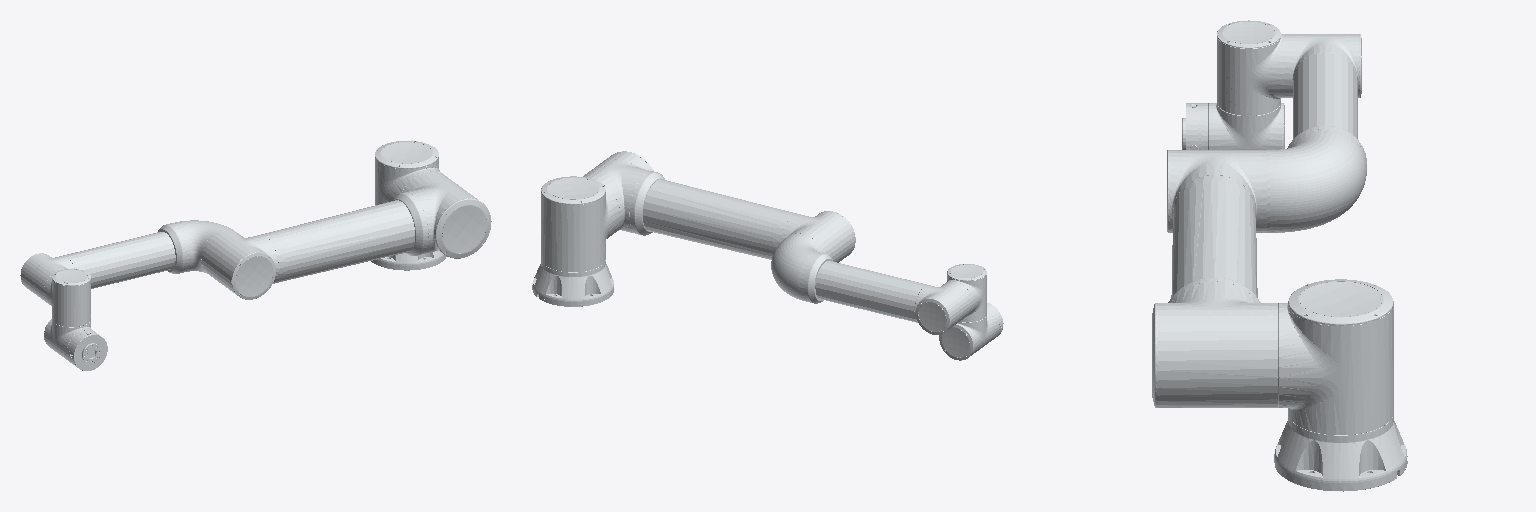
robot.urdf — fairino30_v6_robot:
<?xml version="1.0" encoding="utf-8"?>
<!-- This URDF was automatically created by SolidWorks to URDF Exporter! Originally created by [author] ([email redacted]) 
     Commit Version: 1.5.1-0-g916b5db  Build Version: 1.5.7152.31018
     For more information, please see http://wiki.ros.org/sw_urdf_exporter -->
<robot
  name="fairino30_v6_robot">
  <link
    name="base_link">
    <inertial>
      <origin
        xyz="-2.164E-05 -6.0529E-05 0.043457"
        rpy="0 0 0" />
      <mass
        value="9.2502" />
      <inertia
        ixx="0.034499"
        ixy="1.668E-05"
        ixz="-7.4694E-06"
        iyy="0.034518"
        iyz="-2.0864E-05"
        izz="0.05496" />
    </inertial>
    <visual>
      <origin
        xyz="0 0 0"
        rpy="0 0 0" />
      <geometry>
        <mesh
          filename="package://fairino_description/meshes/fairino30_v6/base_link.STL" />
      </geometry>
      <material
        name="">
        <color
          rgba="0.89804 0.91765 0.92941 1" />
      </material>
    </visual>
    <collision>
      <origin
        xyz="0 0 0"
        rpy="0 0 0" />
      <geometry>
        <mesh
          filename="package://fairino_description/meshes/fairino30_v6/base_link.STL" />
      </geometry>
    </collision>
  </link>
  <link
    name="shoulder_link">
    <inertial>
      <origin
        xyz="-4.518E-06 -0.010267 0.213"
        rpy="0 0 0" />
      <mass
        value="20.64" />
      <inertia
        ixx="0.12521"
        ixy="-1.1623E-05"
        ixz="1.7646E-06"
        iyy="0.11672"
        iyz="0.0010853"
        izz="0.10221" />
    </inertial>
    <visual>
      <origin
        xyz="0 0 0"
        rpy="0 0 0" />
      <geometry>
        <mesh
          filename="package://fairino_description/meshes/fairino30_v6/shoulder_link.STL" />
      </geometry>
      <material
        name="">
        <color
          rgba="0.89804 0.91765 0.92941 1" />
      </material>
    </visual>
    <collision>
      <origin
        xyz="0 0 0"
        rpy="0 0 0" />
      <geometry>
        <mesh
          filename="package://fairino_description/meshes/fairino30_v6/shoulder_link.STL" />
      </geometry>
    </collision>
  </link>
  <joint
    name="j1"
    type="revolute">
    <origin
      xyz="0 0 0"
      rpy="0 0 0" />
    <parent
      link="base_link" />
    <child
      link="shoulder_link" />
    <axis
      xyz="0 0 1" />
    <limit
      lower="-3.0543"
      upper="3.0543"
      effort="150"
      velocity="3.15" />
    <calibration
      rising="0"
      falling="0" />
    <dynamics
      damping="0"
      friction="0" />
    <safety_controller
      soft_lower_limit="-3.0543"
      soft_upper_limit="3.0543"
      k_position="15"
      k_velocity="10" />
  </joint>
  <link
    name="uppperarm_link">
    <inertial>
      <origin
        xyz="-0.2914 5.4848E-07 0.22621"
        rpy="0 0 0" />
      <mass
        value="36.37" />
      <inertia
        ixx="0.23721"
        ixy="1.6991E-05"
        ixz="0.00045804"
        iyy="0.75577"
        iyz="-1.666E-06"
        izz="0.72292" />
    </inertial>
    <visual>
      <origin
        xyz="0 0 0"
        rpy="0 0 0" />
      <geometry>
        <mesh
          filename="package://fairino_description/meshes/fairino30_v6/uppperarm_link.STL" />
      </geometry>
      <material
        name="">
        <color
          rgba="0.89804 0.91765 0.92941 1" />
      </material>
    </visual>
    <collision>
      <origin
        xyz="0 0 0"
        rpy="0 0 0" />
      <geometry>
        <mesh
          filename="package://fairino_description/meshes/fairino30_v6/uppperarm_link.STL" />
      </geometry>
    </collision>
  </link>
  <joint
    name="j2"
    type="revolute">
    <origin
      xyz="0 0 0.215"
      rpy="1.5708 0 0" />
    <parent
      link="shoulder_link" />
    <child
      link="uppperarm_link" />
    <axis
      xyz="0 0 1" />
    <limit
      lower="-4.6251"
      upper="1.4835"
      effort="150"
      velocity="3.15" />
    <calibration
      rising="0"
      falling="0" />
    <dynamics
      damping="0"
      friction="0" />
    <safety_controller
      soft_lower_limit="-4.6251"
      soft_upper_limit="1.4835"
      k_position="15"
      k_velocity="10" />
  </joint>
  <link
    name="forearm_link">
    <inertial>
      <origin
        xyz="-0.23717 -5.0539E-08 0.037483"
        rpy="0 0 0" />
      <mass
        value="8.41" />
      <inertia
        ixx="0.058746"
        ixy="5.8645E-08"
        ixz="-0.0061647"
        iyy="0.18059"
        iyz="-5.4019E-08"
        izz="0.17417" />
    </inertial>
    <visual>
      <origin
        xyz="0 0 0"
        rpy="0 0 0" />
      <geometry>
        <mesh
          filename="package://fairino_description/meshes/fairino30_v6/forearm_link.STL" />
      </geometry>
      <material
        name="">
        <color
          rgba="0.89804 0.91765 0.92941 1" />
      </material>
    </visual>
    <collision>
      <origin
        xyz="0 0 0"
        rpy="0 0 0" />
      <geometry>
        <mesh
          filename="package://fairino_description/meshes/fairino30_v6/forearm_link.STL" />
      </geometry>
    </collision>
  </link>
  <joint
    name="j3"
    type="revolute">
    <origin
      xyz="-0.7 0 0"
      rpy="0 0 0" />
    <parent
      link="uppperarm_link" />
    <child
      link="forearm_link" />
    <axis
      xyz="0 0 1" />
    <limit
      lower="-2.8274"
      upper="2.8274"
      effort="150"
      velocity="3.15" />
    <calibration
      rising="0"
      falling="0" />
    <dynamics
      damping="0"
      friction="0" />
    <safety_controller
      soft_lower_limit="-2.8274"
      soft_upper_limit="2.8274"
      k_position="15"
      k_velocity="10" />
  </joint>
  <link
    name="wrist1_link">
    <inertial>
      <origin
        xyz="-1.3256E-07 -0.0056179 0.16192"
        rpy="0 0 0" />
      <mass
        value="4.64" />
      <inertia
        ixx="0.010725"
        ixy="7.9712E-08"
        ixz="-9.1987E-08"
        iyy="0.0081744"
        iyz="0.0001288"
        izz="0.010402" />
    </inertial>
    <visual>
      <origin
        xyz="0 0 0"
        rpy="0 0 0" />
      <geometry>
        <mesh
          filename="package://fairino_description/meshes/fairino30_v6/wrist1_link.STL" />
      </geometry>
      <material
        name="">
        <color
          rgba="0.89804 0.91765 0.92941 1" />
      </material>
    </visual>
    <collision>
      <origin
        xyz="0 0 0"
        rpy="0 0 0" />
      <geometry>
        <mesh
          filename="package://fairino_description/meshes/fairino30_v6/wrist1_link.STL" />
      </geometry>
    </collision>
  </link>
  <joint
    name="j4"
    type="revolute">
    <origin
      xyz="-0.536 0 0"
      rpy="0 0 0" />
    <parent
      link="forearm_link" />
    <child
      link="wrist1_link" />
    <axis
      xyz="0 0 1" />
    <limit
      lower="-4.6251"
      upper="1.4835"
      effort="28"
      velocity="3.2" />
    <calibration
      rising="0"
      falling="0" />
    <dynamics
      damping="0"
      friction="0" />
    <safety_controller
      soft_lower_limit="-4.6251"
      soft_upper_limit="1.4835"
      k_position="15"
      k_velocity="10" />
  </joint>
  <link
    name="wrist2_link">
    <inertial>
      <origin
        xyz="1.3277E-07 0.0056179 0.13391"
        rpy="0 0 0" />
      <mass
        value="4.64" />
      <inertia
        ixx="0.010725"
        ixy="7.975E-08"
        ixz="9.2016E-08"
        iyy="0.0081744"
        iyz="-0.0001288"
        izz="0.010402" />
    </inertial>
    <visual>
      <origin
        xyz="0 0 0"
        rpy="0 0 0" />
      <geometry>
        <mesh
          filename="package://fairino_description/meshes/fairino30_v6/wrist2_link.STL" />
      </geometry>
      <material
        name="">
        <color
          rgba="0.89804 0.91765 0.92941 1" />
      </material>
    </visual>
    <collision>
      <origin
        xyz="0 0 0"
        rpy="0 0 0" />
      <geometry>
        <mesh
          filename="package://fairino_description/meshes/fairino30_v6/wrist2_link.STL" />
      </geometry>
    </collision>
  </link>
  <joint
    name="j5"
    type="revolute">
    <origin
      xyz="0 0 0.16601"
      rpy="1.5708 0 0" />
    <parent
      link="wrist1_link" />
    <child
      link="wrist2_link" />
    <axis
      xyz="0 0 1" />
    <limit
      lower="-3.0543"
      upper="3.0543"
      effort="28"
      velocity="3.2" />
    <calibration
      rising="0"
      falling="0" />
    <dynamics
      damping="0"
      friction="0" />
    <safety_controller
      soft_lower_limit="-3.0543"
      soft_upper_limit="3.0543"
      k_position="15"
      k_velocity="10" />
  </joint>
  <link
    name="wrist3_link">
    <inertial>
      <origin
        xyz="-0.00011259 -0.00010416 0.095779"
        rpy="0 0 0" />
      <mass
        value="0.6" />
      <inertia
        ixx="0.0010481"
        ixy="3.6643E-10"
        ixz="8.8719E-09"
        iyy="0.0010481"
        iyz="1.6427E-09"
        izz="0.0018226" />
    </inertial>
    <visual>
      <origin
        xyz="0 0 0"
        rpy="0 0 0" />
      <geometry>
        <mesh
          filename="package://fairino_description/meshes/fairino30_v6/wrist3_link.STL" />
      </geometry>
      <material
        name="">
        <color
          rgba="0.89804 0.91765 0.92941 1" />
      </material>
    </visual>
    <collision>
      <origin
        xyz="0 0 0"
        rpy="0 0 0" />
      <geometry>
        <mesh
          filename="package://fairino_description/meshes/fairino30_v6/wrist3_link.STL" />
      </geometry>
    </collision>
  </link>
  <joint
    name="j6"
    type="revolute">
    <origin
      xyz="0 0 0.138"
      rpy="-1.5708 0 0" />
    <parent
      link="wrist2_link" />
    <child
      link="wrist3_link" />
    <axis
      xyz="0 0 1" />
    <limit
      lower="-3.0543"
      upper="3.0543"
      effort="28"
      velocity="3.2" />
    <calibration
      rising="0"
      falling="0" />
    <dynamics
      damping="0"
      friction="0" />
    <safety_controller
      soft_lower_limit="-3.0543"
      soft_upper_limit="3.0543"
      k_position="15"
      k_velocity="10" />
  </joint>
</robot>

--- Render facts (derived) ---
The picture shows the robot from 3 angles, left to right: view 1: azimuth 30°, elevation 25°; view 2: azimuth 150°, elevation 25°; view 3: azimuth 270°, elevation 25°; orthographic projection.
Model fairino30_v6_robot with 7 links and 6 joints (6 revolute), rooted at base_link, posed all joints at 0.
Visible links, largest first — view 1: uppperarm_link, forearm_link, shoulder_link, wrist1_link, wrist3_link, base_link, wrist2_link; view 2: uppperarm_link, forearm_link, shoulder_link, base_link, wrist2_link, wrist1_link; view 3: uppperarm_link, shoulder_link, forearm_link, base_link, wrist1_link, wrist2_link, wrist3_link.
Link boxes in pixels (x1,y1,x2,y2): uppperarm_link: [202, 171, 491, 299]; forearm_link: [20, 220, 235, 302]; shoulder_link: [375, 141, 442, 204]; wrist1_link: [44, 269, 90, 326]; wrist3_link: [67, 330, 107, 370]; base_link: [371, 251, 446, 270]; wrist2_link: [44, 319, 94, 362]; uppperarm_link: [583, 151, 855, 262]; forearm_link: [771, 233, 972, 334]; shoulder_link: [541, 176, 620, 271]; base_link: [532, 260, 613, 306]; wrist2_link: [939, 311, 996, 360]; wrist1_link: [946, 264, 986, 322]; uppperarm_link: [1152, 150, 1277, 407]; shoulder_link: [1278, 279, 1393, 434]; forearm_link: [1267, 34, 1366, 232]; base_link: [1274, 414, 1407, 491]; wrist1_link: [1217, 20, 1284, 115]; wrist2_link: [1208, 103, 1284, 149]; wrist3_link: [1182, 103, 1207, 149].
Bounding box of the posed robot: 1.41 × 0.46 × 0.327 m (x, y, z).
Meshes: 7 distinct files referenced, 7 mesh visuals loaded (7 binary STL).